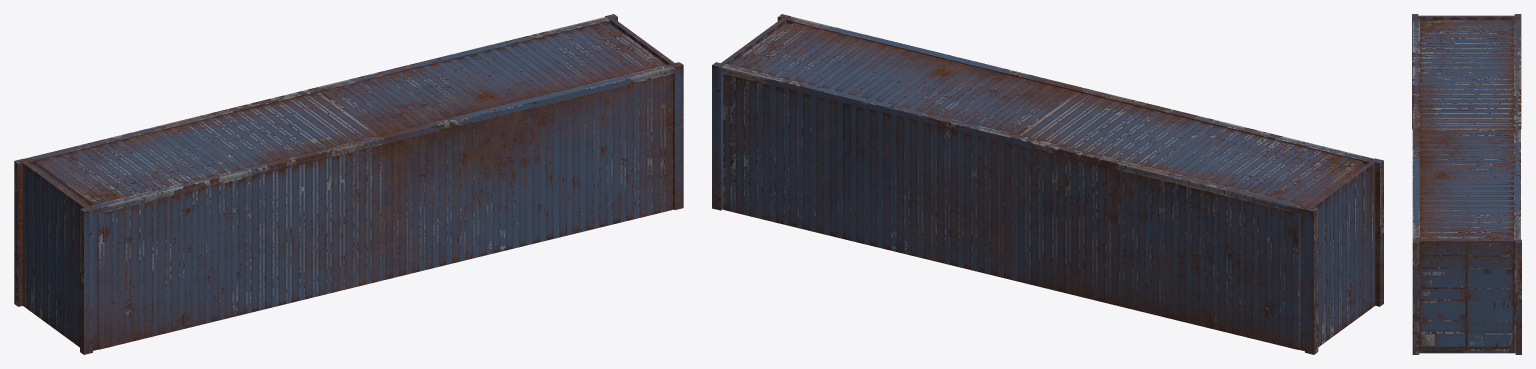
Rendered from con_blue.fbx.
The picture shows the model from 3 angles, left to right: view 1: azimuth 30°, elevation 25°; view 2: azimuth 150°, elevation 25°; view 3: azimuth 270°, elevation 25°; orthographic projection. The views are drawn at different scales.
Parts seen in each view (by area): view 1: con_blue; view 2: con_blue; view 3: con_blue.
Boxes of the visible parts, bbox=[...] form: con_blue: bbox=[14, 14, 683, 354]; con_blue: bbox=[712, 14, 1383, 354]; con_blue: bbox=[1412, 14, 1521, 354].
Size of the model in its own units: 1200 by 274 by 243.
1 material, 1 textured.
